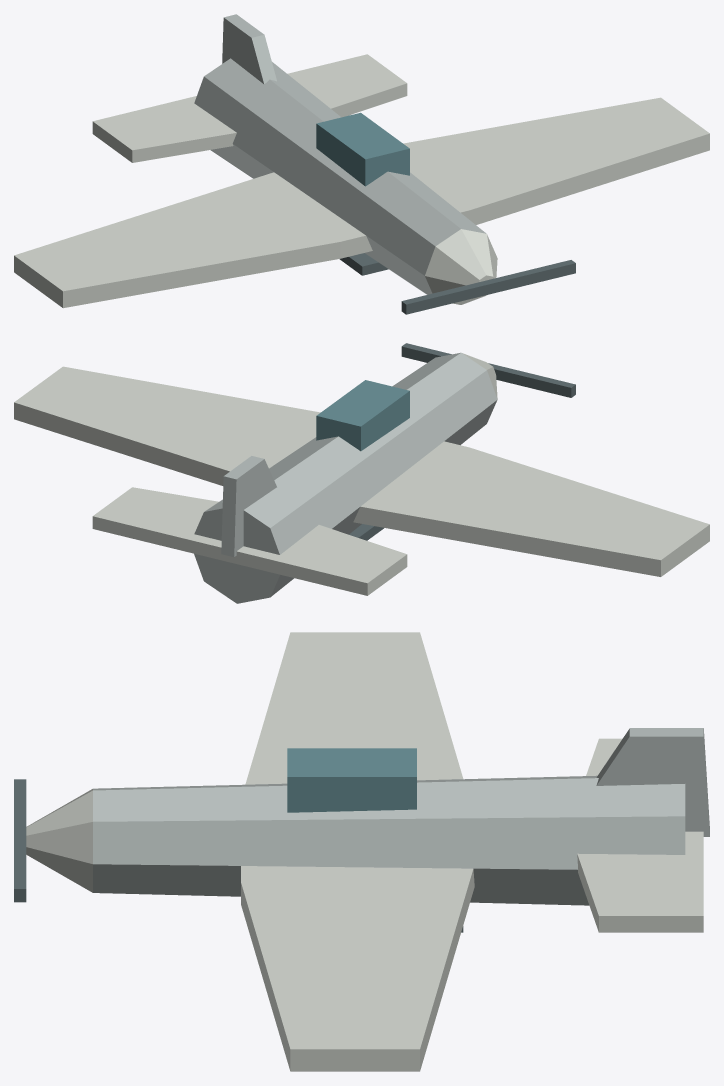
The model's file is air.glb.
The picture shows the model from 3 angles, top to bottom: view 1: azimuth 30°, elevation 25°; view 2: azimuth 150°, elevation 25°; view 3: azimuth 270°, elevation 25°; orthographic projection. The views are drawn at different scales.
Visible parts, largest first — view 1: main-wing, fuselage, tailplane, canopy, nose, propeller, tail-fin, landing-pad; view 2: main-wing, fuselage, tailplane, canopy, tail-fin, propeller; view 3: main-wing, fuselage, tailplane, canopy, tail-fin, nose, propeller.
Boxes of the visible parts, box(x1,y1,x2,y2) form: main-wing: box(14, 97, 709, 308); fuselage: box(194, 58, 486, 294); tailplane: box(92, 54, 407, 162); canopy: box(316, 112, 409, 186); nose: box(425, 229, 497, 304); propeller: box(401, 260, 575, 314); tail-fin: box(222, 14, 276, 84); landing-pad: box(339, 253, 388, 275); main-wing: box(14, 366, 709, 576); fuselage: box(194, 352, 497, 603); tailplane: box(92, 487, 407, 595); canopy: box(316, 380, 409, 451); tail-fin: box(221, 456, 276, 556); propeller: box(401, 343, 575, 397); main-wing: box(241, 632, 474, 1071); fuselage: box(93, 775, 685, 905); tailplane: box(577, 738, 703, 932); canopy: box(287, 748, 416, 812); tail-fin: box(596, 728, 709, 836); nose: box(26, 789, 92, 892); propeller: box(14, 779, 26, 902).
Size of the model in its own units: 8 by 1.65 by 5.64.
